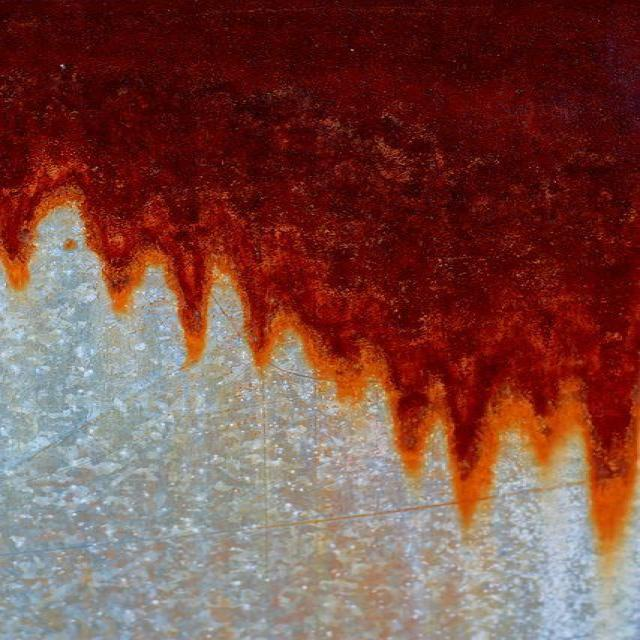Uniform Corrosion: (0, 0, 639, 538)
